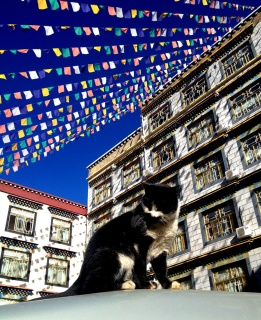Cat: (25, 181, 180, 301)
